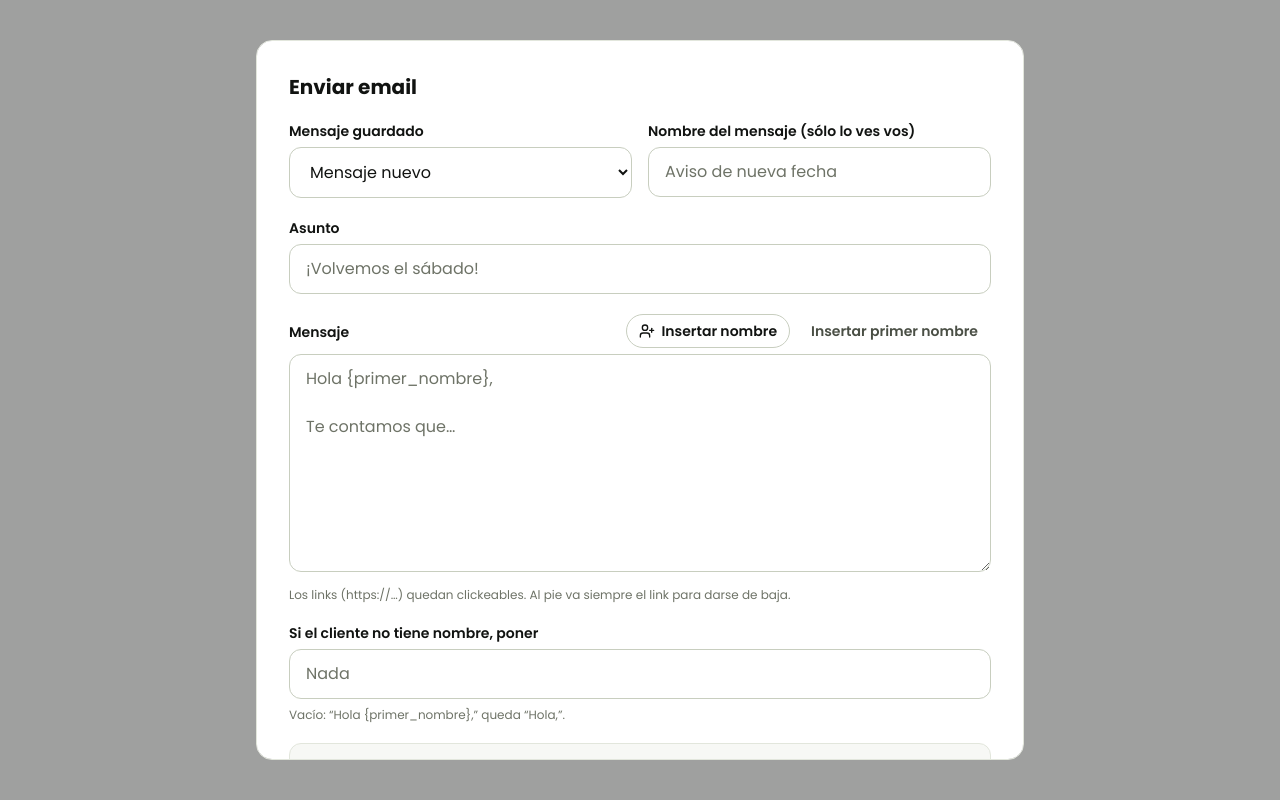
it: DialogoEnvio › "Insertar nombre" pone la variable donde está el cursor
Type "Hola , te esperamos" into the text box labelled "Mensaje" at [640, 463], box [289,354,991,572]
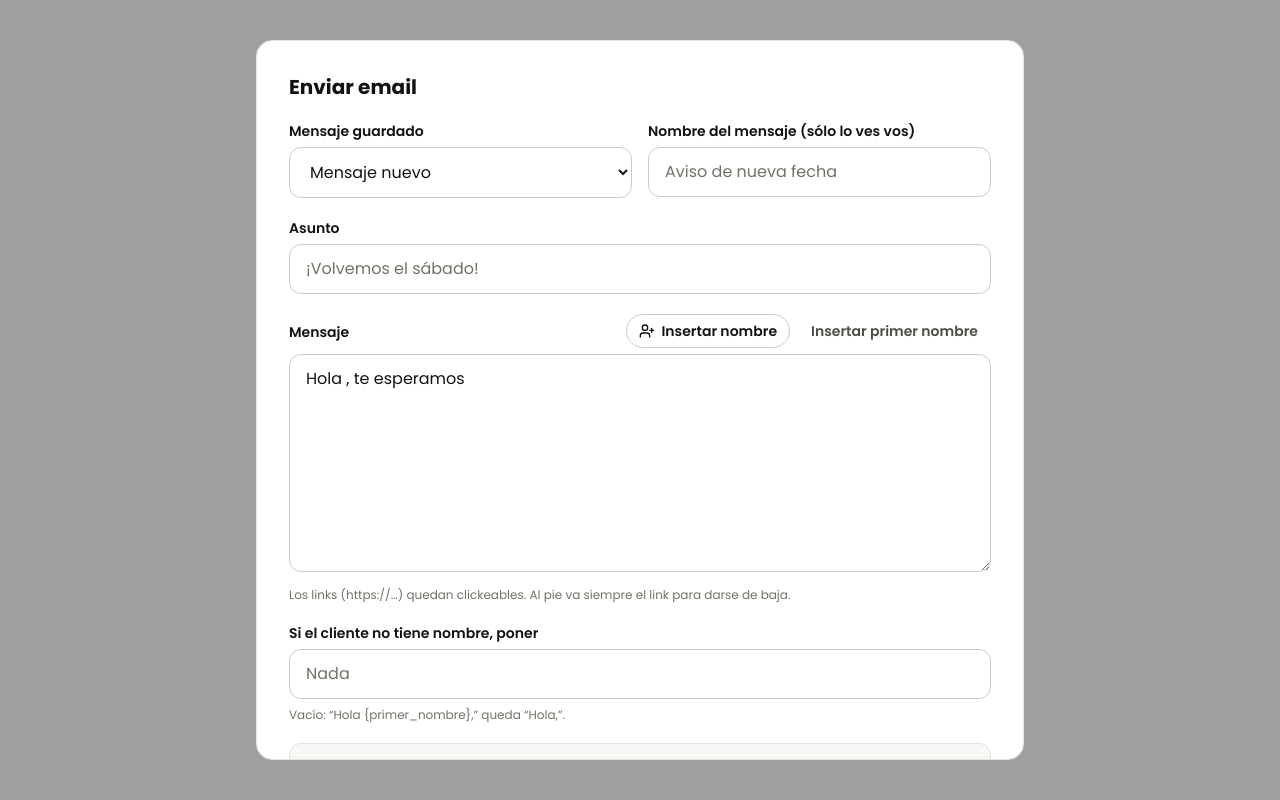
Click the button "Insertar nombre" at [708, 331], box [626,314,790,348]
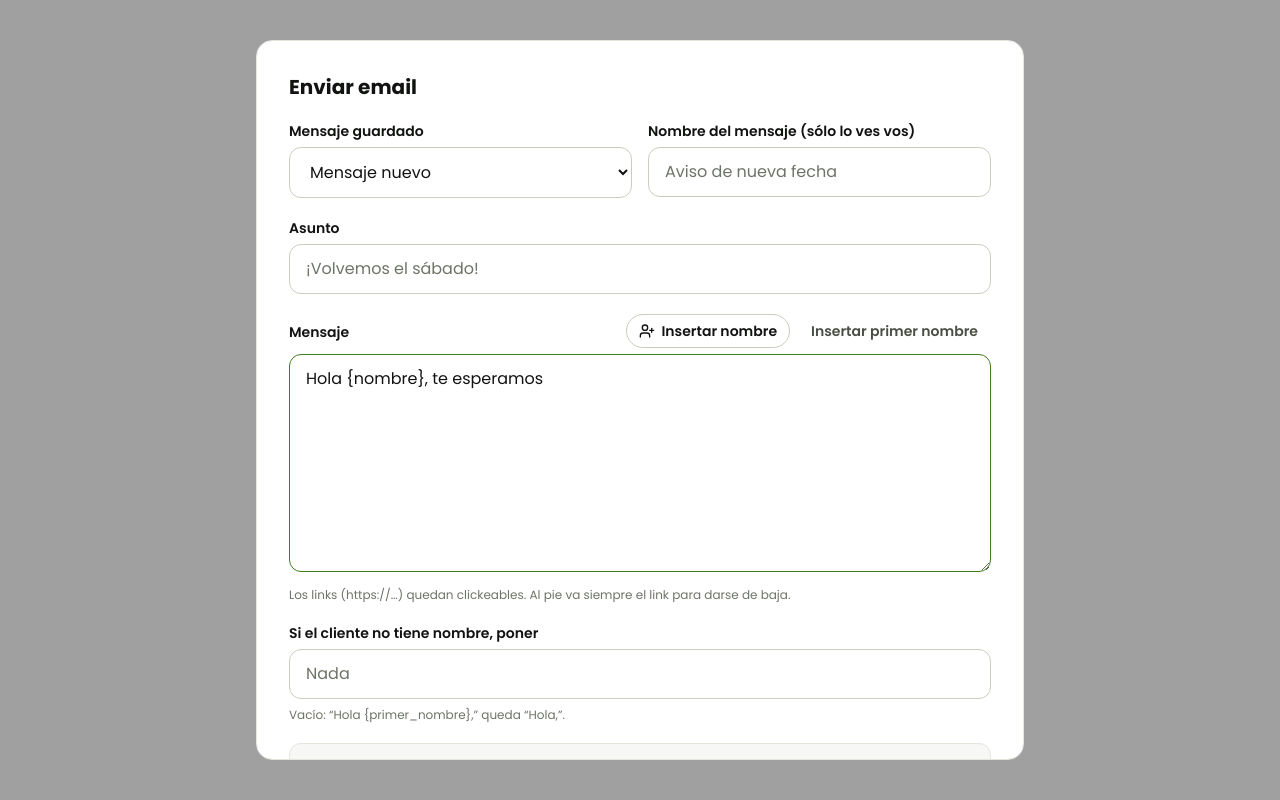
Expected: the text box labelled "Mensaje" holds "Hola {nombre}, te esperamos", [289,354,991,572]
Click the button "Insertar primer nombre" at [894, 331], box [798,314,991,348]
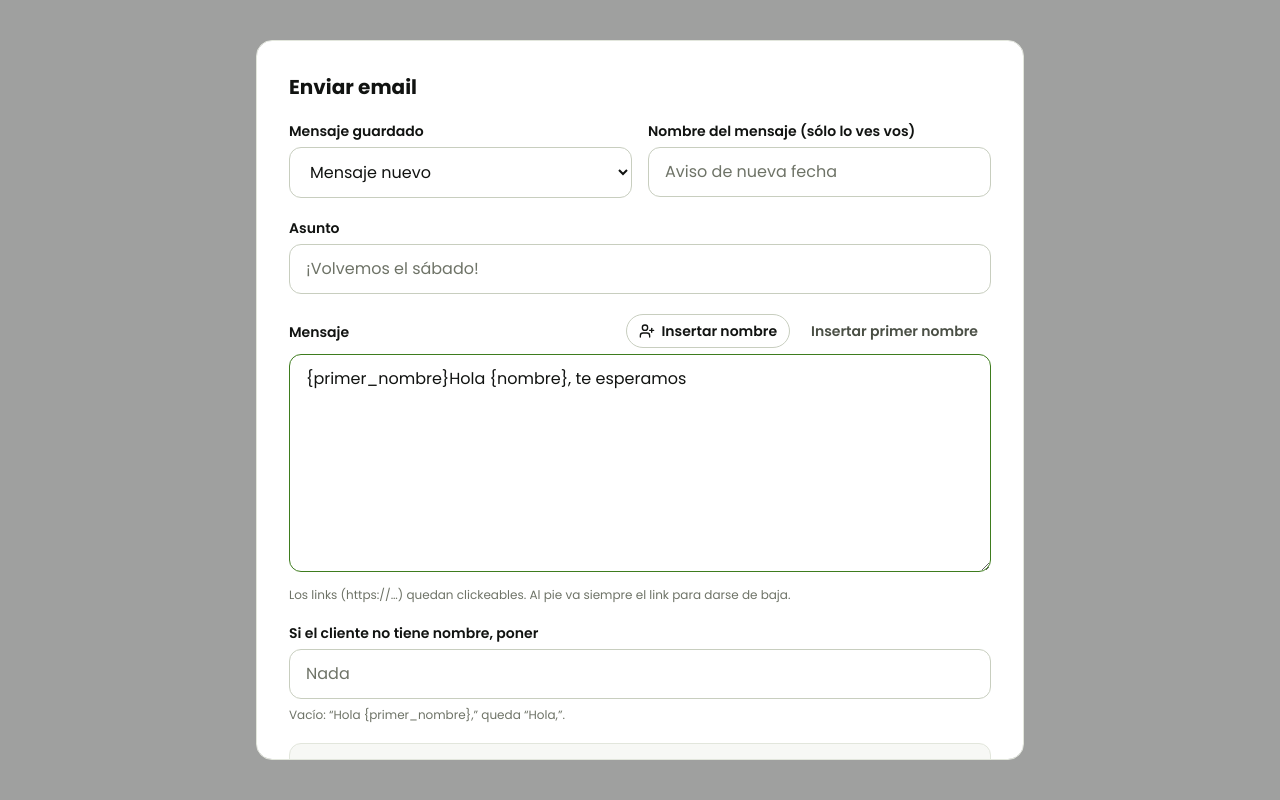
Expected: the text box labelled "Mensaje" holds "{primer_nombre}Hola {nombre}, te esperamos", [289,354,991,572]
